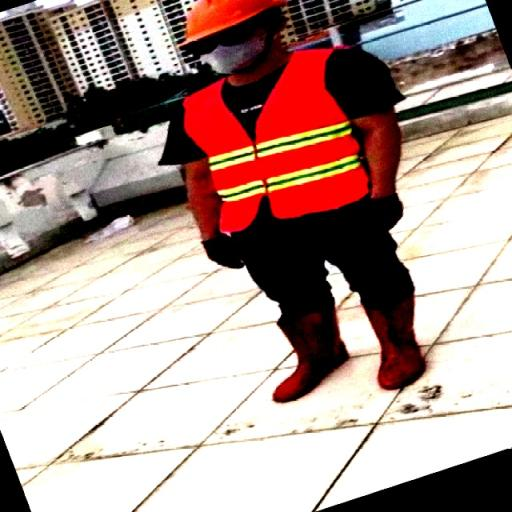Person: (158, 0, 464, 448)
boots: (268, 300, 352, 406), (363, 284, 434, 398)
gloves: (198, 228, 254, 274), (359, 191, 405, 228)
goggles: (182, 23, 300, 56)
helmet: (178, 0, 284, 49)
vest: (182, 30, 386, 232)
